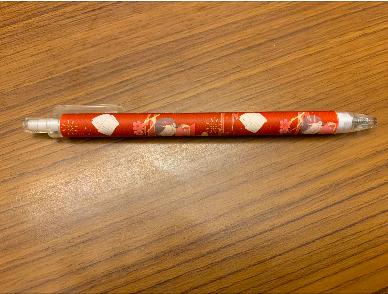Nonfood: (19, 92, 377, 161)
